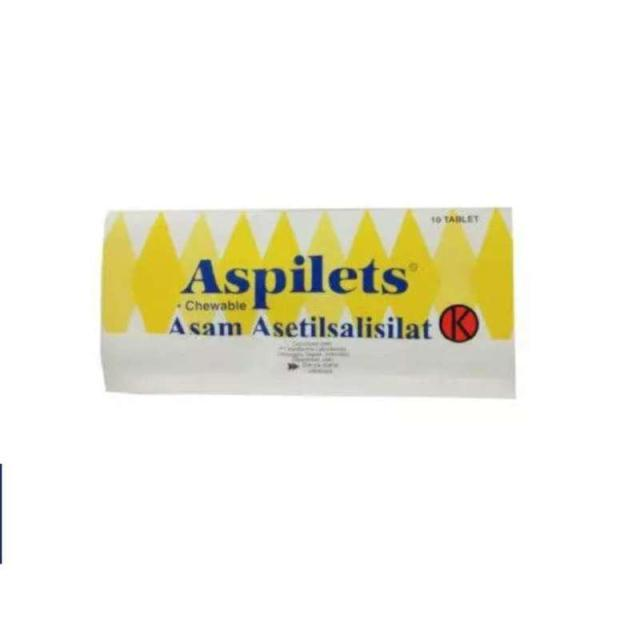drug-name: (180, 254, 409, 312)
